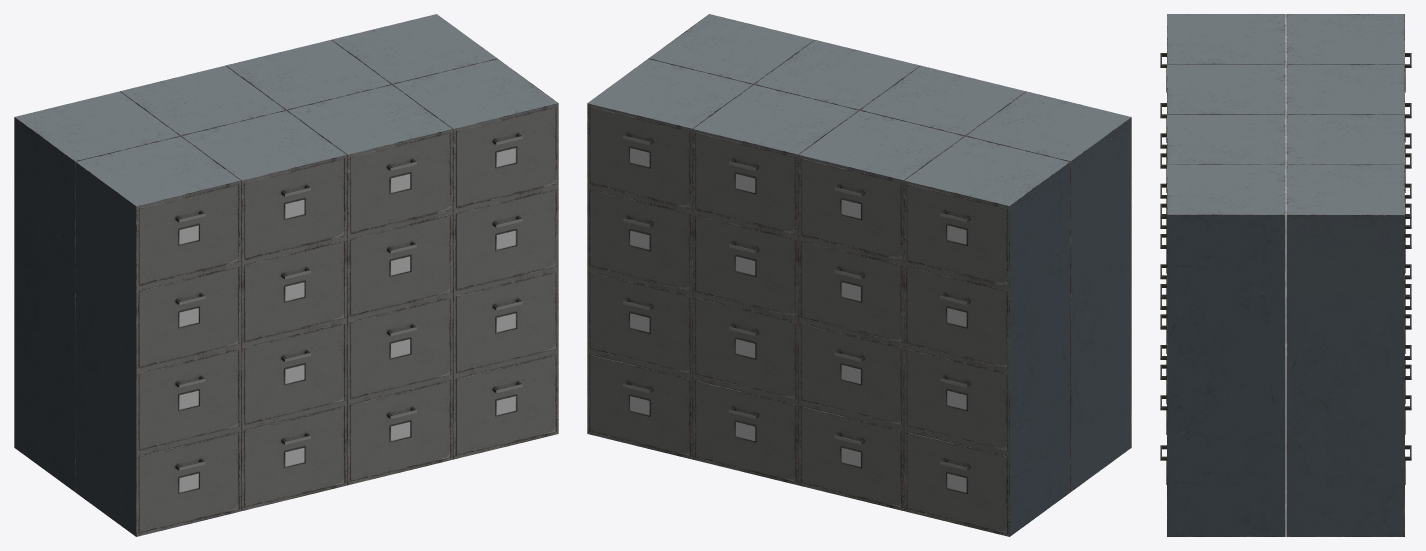
The model's file is filling_cabinet.glb.
The picture shows the model from 3 angles, left to right: view 1: azimuth 30°, elevation 25°; view 2: azimuth 150°, elevation 25°; view 3: azimuth 270°, elevation 25°; orthographic projection. The views are drawn at different scales.
Visible parts, largest first — view 1: box_6, box_5, box_4, box_3, box_10, box_8, box_9, box_7; view 2: box_10, box_9, box_8, box_7, box_6, box_4, box_3, box_5; view 3: box_3, box_7, box_4, box_8, box_5, box_9, box_10, box_6.
Part boxes in pixels (x1,y1,x2,y2): box_6: (75, 136, 241, 536); box_5: (181, 110, 347, 510); box_4: (287, 84, 452, 485); box_3: (392, 59, 558, 459); box_10: (14, 91, 179, 491); box_8: (225, 40, 391, 110); box_9: (120, 65, 285, 136); box_7: (331, 14, 497, 84); box_10: (904, 136, 1070, 536); box_9: (798, 110, 964, 510); box_8: (693, 84, 858, 485); box_7: (587, 59, 753, 459); box_6: (966, 91, 1131, 491); box_4: (754, 40, 920, 110); box_3: (648, 14, 814, 84); box_5: (860, 65, 1025, 136); box_3: (1160, 164, 1285, 536); box_7: (1286, 164, 1411, 536); box_4: (1160, 114, 1285, 434); box_8: (1286, 114, 1411, 434); box_5: (1160, 64, 1285, 375); box_9: (1286, 64, 1411, 375); box_10: (1286, 14, 1411, 325); box_6: (1160, 14, 1285, 325).
Size of the model in its own units: 1.6 by 1.2 by 0.8482.
Materials: 1 (1 with a texture image).
